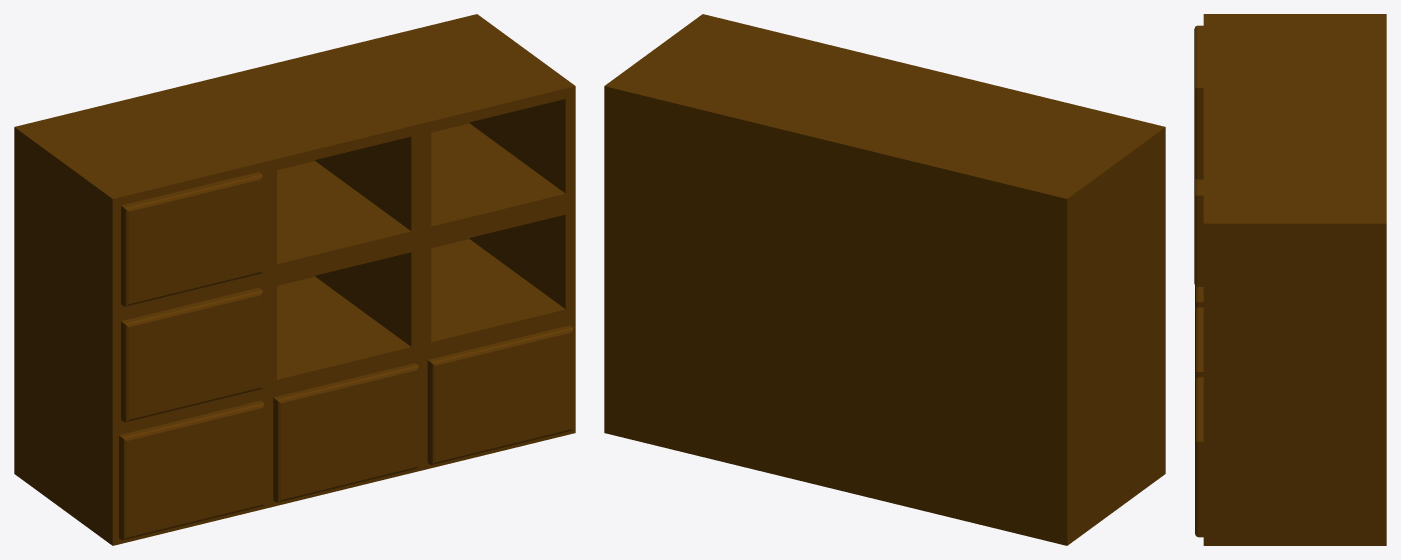
File: wardrobe.glb
3 renders of one model, left to right at view 1: azimuth 30°, elevation 25°; view 2: azimuth 150°, elevation 25°; view 3: azimuth 270°, elevation 25°, orthographic. The views are drawn at different scales.
Parts seen in each view (by area): view 1: Cube; view 2: Cube; view 3: Cube.
Boxes of the visible parts, <box> form: Cube: <box>14,14,575,545</box>; Cube: <box>604,14,1165,545</box>; Cube: <box>1194,14,1386,545</box>.
Size of the model in its own units: 2.68 by 1.92 by 1.04.
